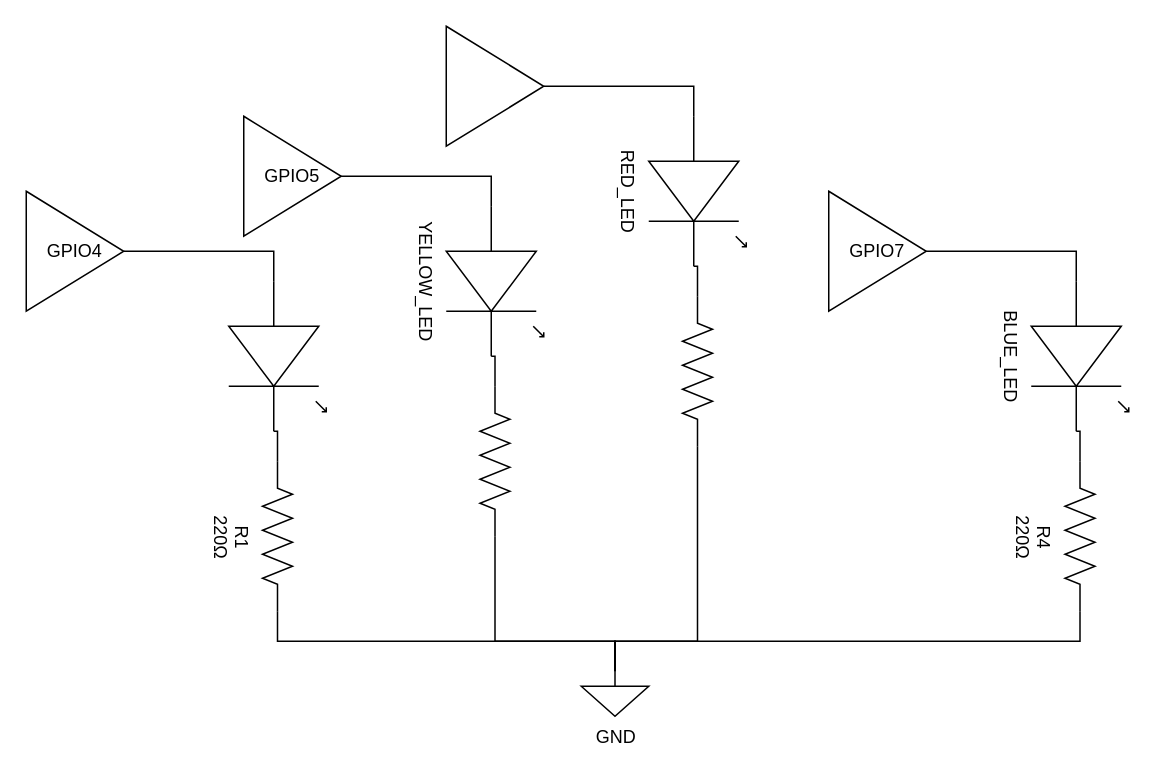
This 1155x774 diagram has some shape labels left out. The centre of each missing label's shape, as x and y in pixels:
GPIO6: (494,85)
GREEN_LED: (276,355)
R2 220Ω: (494,460)
R3 220Ω: (696,370)
